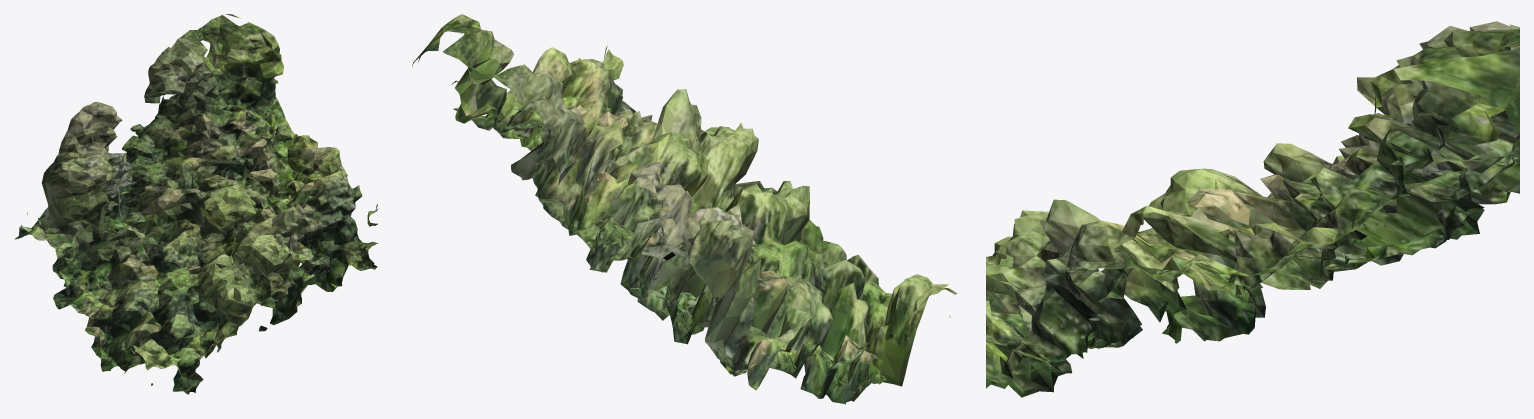
The picture shows the model from 3 angles, left to right: view 1: azimuth 30°, elevation 25°; view 2: azimuth 150°, elevation 25°; view 3: azimuth 270°, elevation 25°; orthographic projection. The views are drawn at different scales.
Size of the model in its own units: 52.22 by 52.22 by 52.22.
7 materials, 7 textured.
